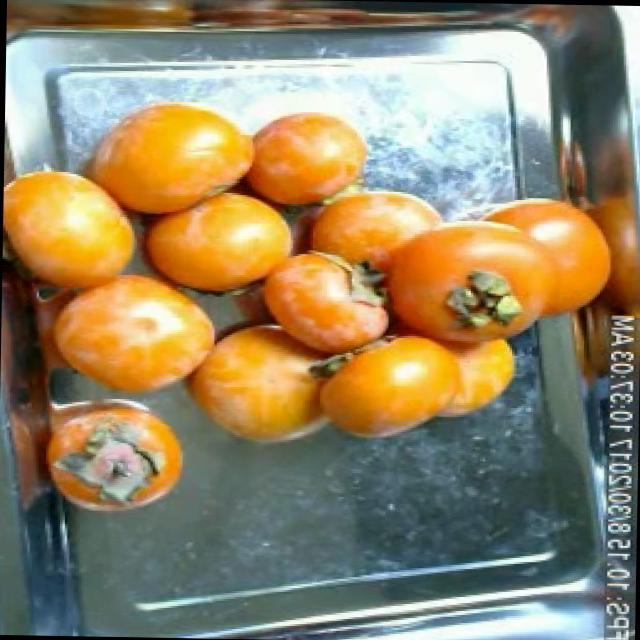Fruit: (0, 154, 152, 311), (223, 98, 386, 219)
